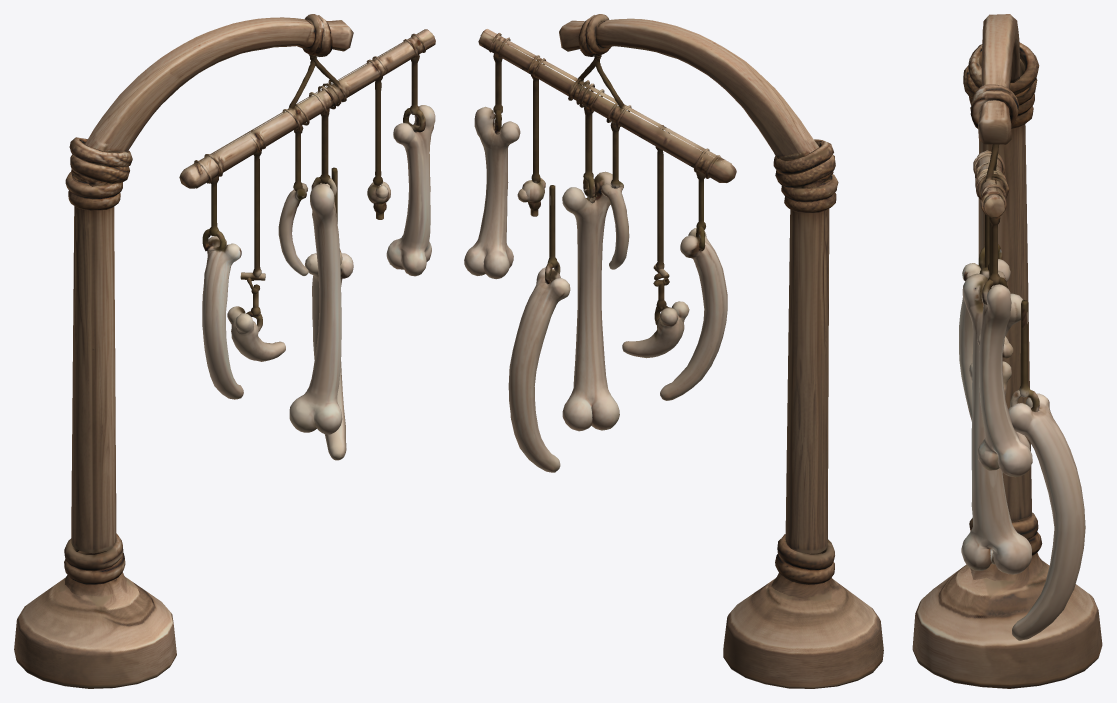
Rendered from act1_kit_v1_bone_mobile.glb.
3 renders of one model, left to right at view 1: azimuth 30°, elevation 25°; view 2: azimuth 150°, elevation 25°; view 3: azimuth 270°, elevation 25°, orthographic. The views are drawn at different scales.
Visible parts, largest first — view 1: act1_kit_v1_bone_mobile; view 2: act1_kit_v1_bone_mobile; view 3: act1_kit_v1_bone_mobile.
Part boxes in pixels (bbox=[...]): act1_kit_v1_bone_mobile: bbox=[14, 14, 435, 688]; act1_kit_v1_bone_mobile: bbox=[464, 14, 883, 688]; act1_kit_v1_bone_mobile: bbox=[912, 14, 1102, 688].
Bounding box in the file's own units: 0.714 × 1 × 0.2475.
1 material, 1 textured.
